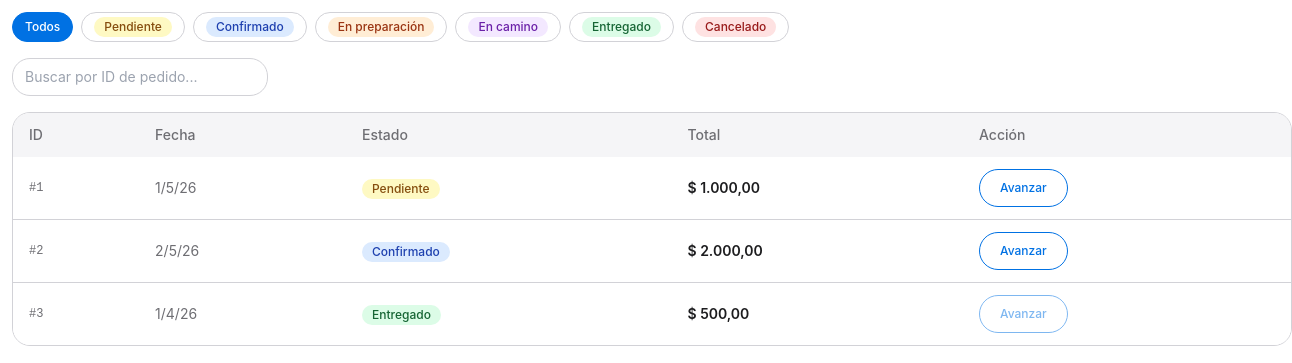
Scenario: GestionPedidosTable › filtra por id al escribir en el buscador
The width and height of the screenshot is (1292, 363).
Type "2" into the field with placeholder "Buscar por ID de pedido...". click: (140, 77)
box: [12,58,268,96]
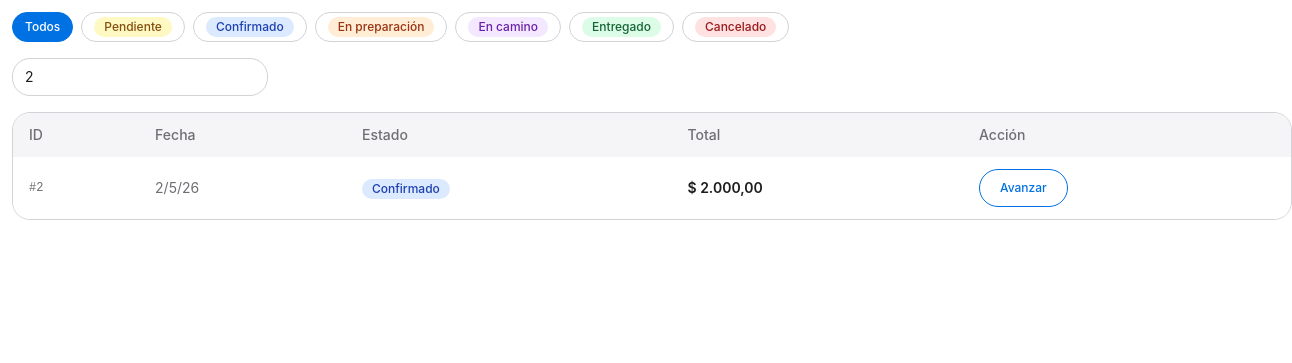
Expected: the text "#2" is shown, [13,157,139,219]
Expected: the text "#3" is gone
